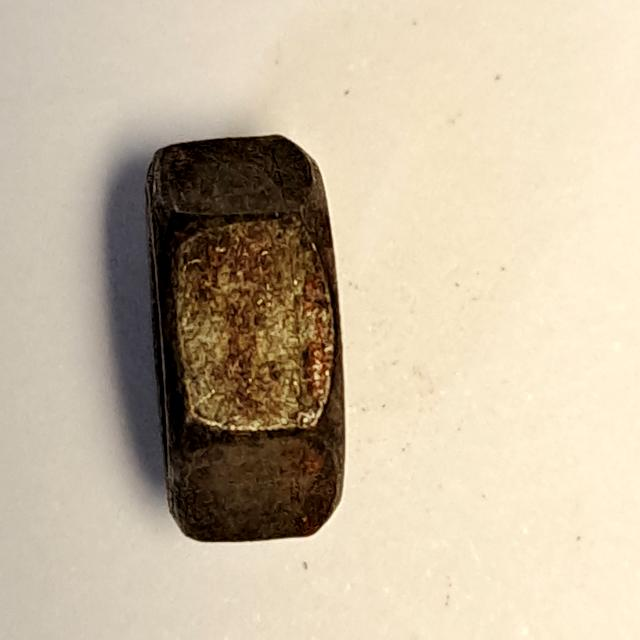Side_Rust: (132, 124, 371, 558)
